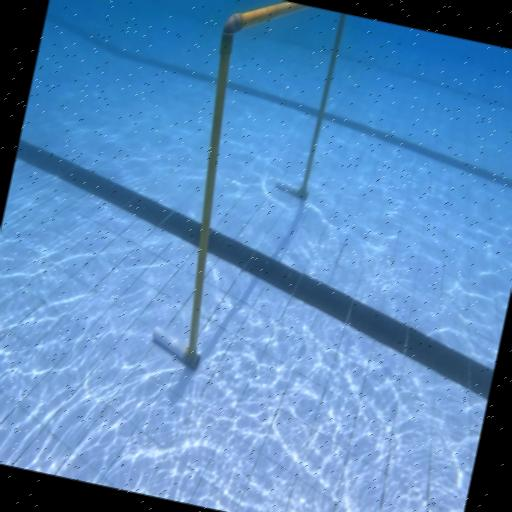gate: (147, 0, 350, 384)
